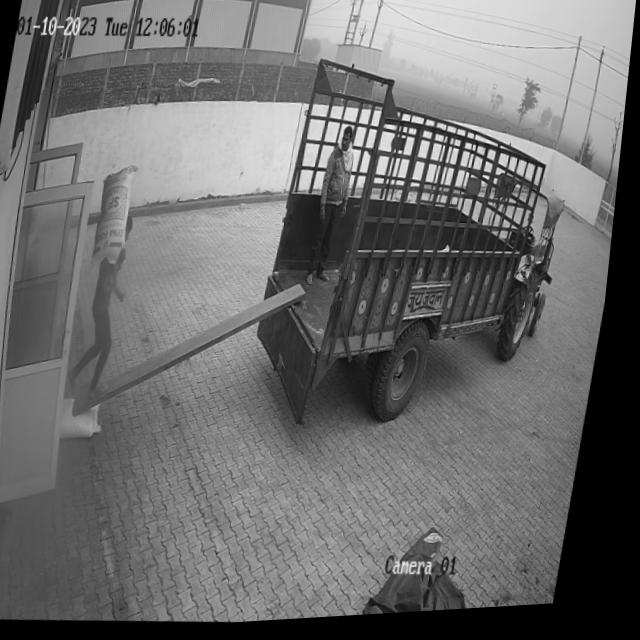sack: (94, 165, 143, 268), (65, 397, 114, 443)
